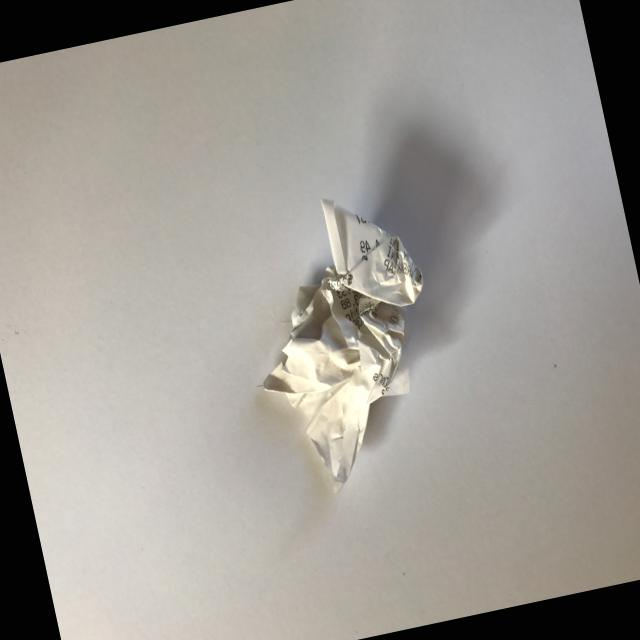Paper: (212, 159, 493, 516)
